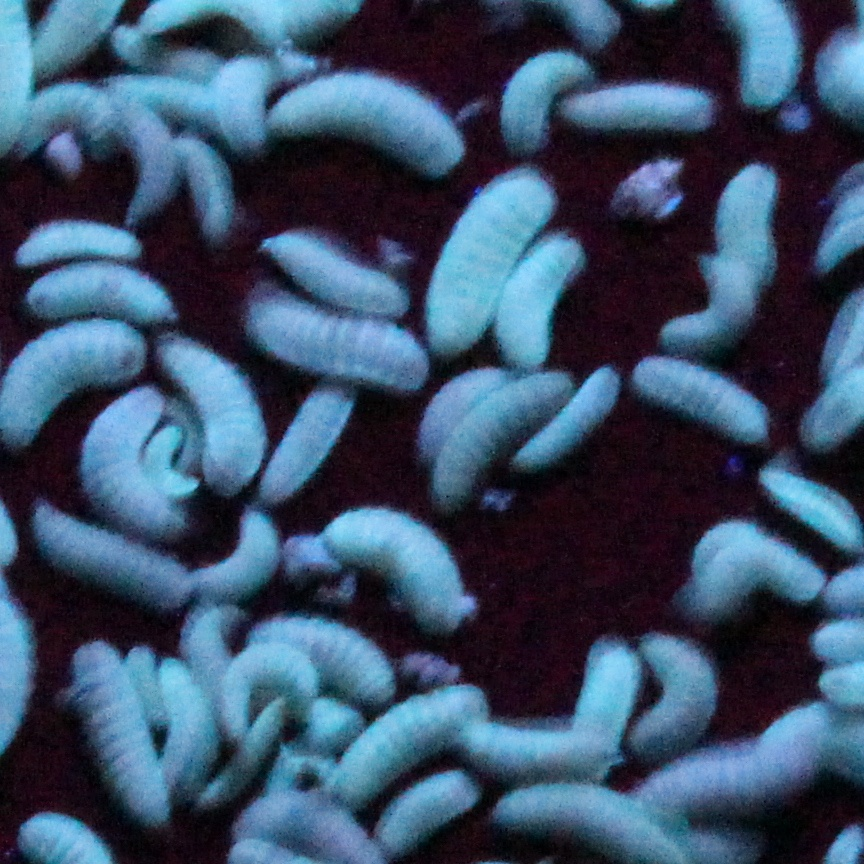larve: (241, 289, 438, 396), (271, 79, 464, 178), (427, 170, 538, 335), (325, 510, 475, 630), (668, 716, 832, 815), (166, 336, 270, 490), (82, 650, 174, 824), (342, 690, 478, 791), (47, 519, 188, 614), (639, 353, 764, 447), (264, 235, 407, 316), (511, 369, 625, 470), (451, 383, 556, 485), (636, 630, 722, 749), (700, 530, 825, 610), (268, 387, 354, 501), (508, 236, 581, 361), (92, 409, 166, 530), (705, 166, 785, 275), (270, 622, 391, 694), (172, 136, 247, 249), (192, 511, 284, 601), (154, 669, 215, 804), (560, 83, 712, 136), (669, 258, 759, 344), (462, 717, 591, 776), (6, 220, 147, 271), (506, 46, 581, 141), (569, 639, 637, 740), (388, 780, 480, 854), (107, 68, 216, 128), (36, 274, 171, 322), (417, 368, 496, 449), (214, 651, 320, 709), (121, 97, 169, 220), (213, 59, 274, 149), (35, 89, 116, 155), (124, 645, 171, 724), (147, 436, 196, 501)
